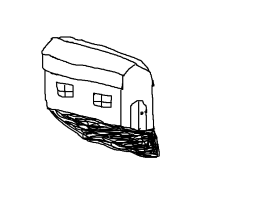closed_window: (51, 80, 80, 100), (91, 91, 116, 111)
door: (126, 98, 151, 134)
roof: (38, 32, 164, 90)
shadow: (46, 108, 170, 161)
wall: (37, 68, 124, 126), (114, 60, 162, 134)
